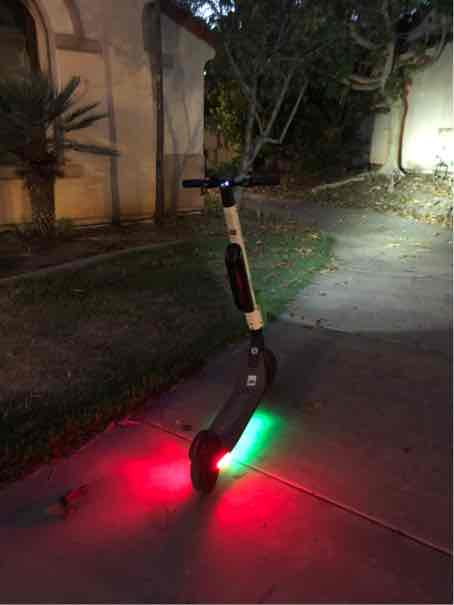scooter: (158, 154, 305, 520)
